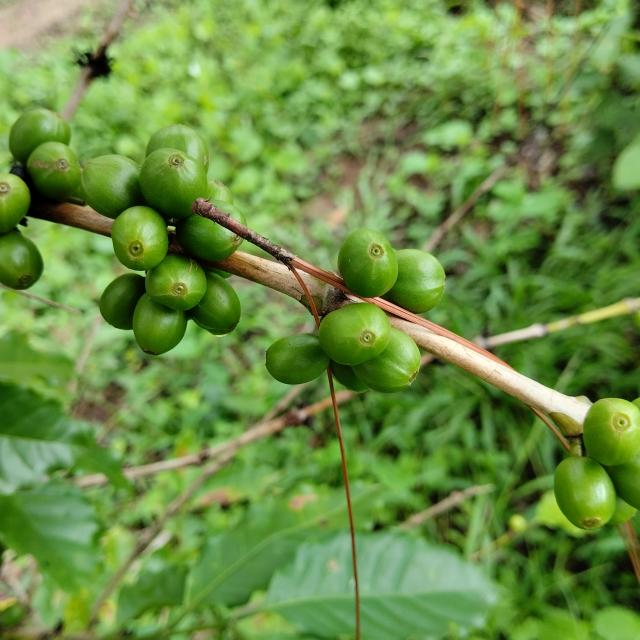green: (139, 147, 207, 218), (555, 456, 617, 531), (319, 302, 391, 366), (352, 328, 421, 393), (81, 154, 145, 219), (382, 249, 446, 313), (338, 229, 398, 297), (584, 398, 640, 466), (111, 205, 168, 271), (145, 253, 206, 311), (187, 271, 241, 336), (8, 108, 70, 164), (132, 293, 187, 355), (266, 334, 331, 385), (175, 214, 243, 261), (26, 141, 80, 200), (146, 124, 209, 173), (99, 273, 145, 330), (0, 230, 43, 289), (606, 452, 640, 510), (0, 173, 30, 233), (330, 360, 370, 394), (211, 200, 246, 225)
